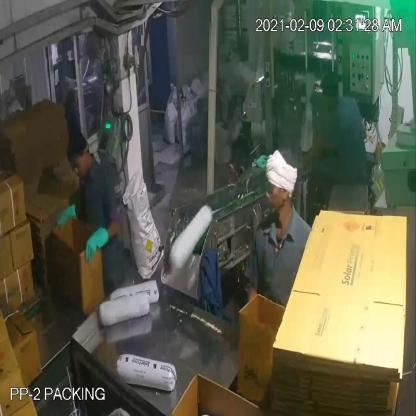glove: (77, 222, 118, 265), (44, 192, 80, 235)
